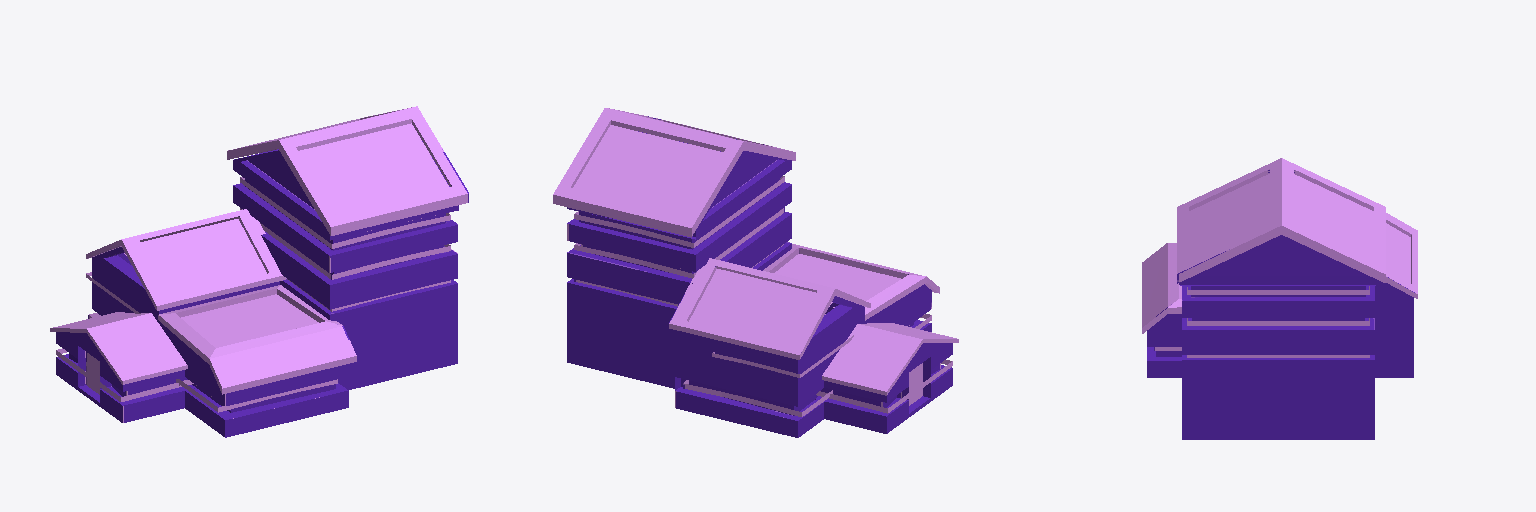
The picture shows the model from 3 angles: view 1: azimuth 30°, elevation 25°; view 2: azimuth 150°, elevation 25°; view 3: azimuth 270°, elevation 25°; orthographic projection.
Parts seen in each view (by area): view 1: Cube_Cube.001; view 2: Cube_Cube.001; view 3: Cube_Cube.001.
Boxes of the visible parts, x1=… form: Cube_Cube.001: x1=50, y1=106, x2=468, y2=437; Cube_Cube.001: x1=553, y1=108, x2=958, y2=437; Cube_Cube.001: x1=1142, y1=158, x2=1417, y2=439.
Bounding box in the file's own units: 332 × 214 × 245.
1 materials, 1 textured.